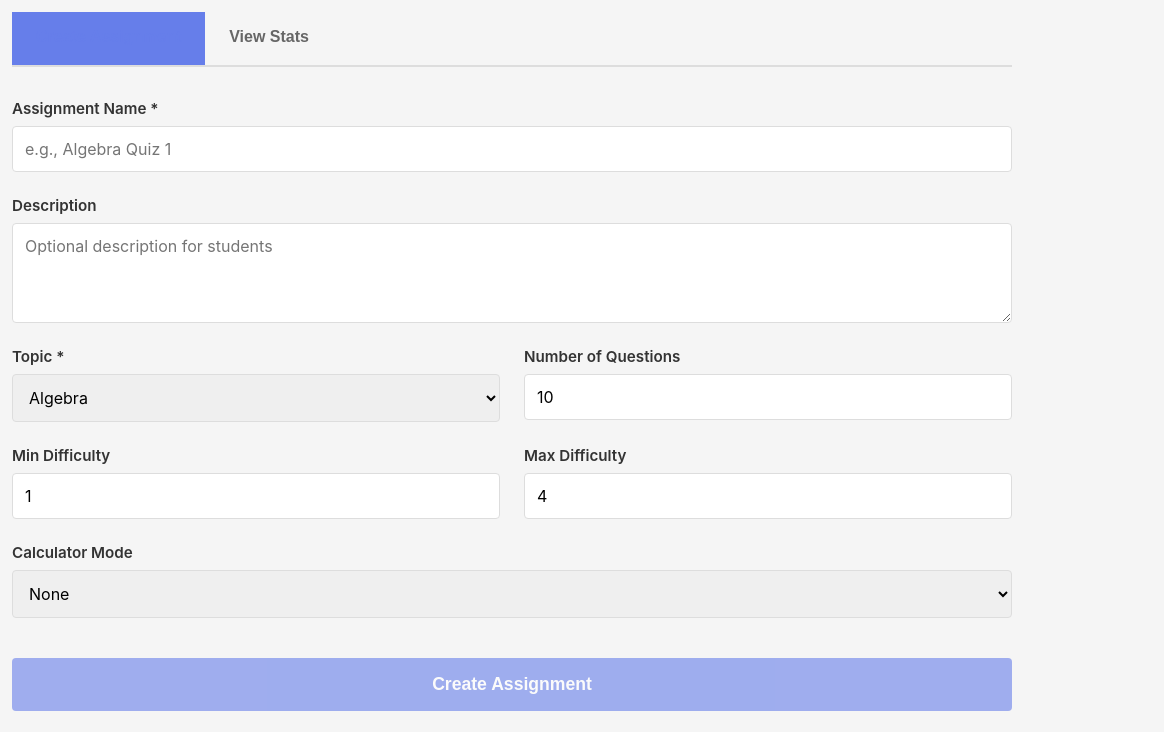
it: TeacherAssignments Component › Stats Tab › loads and displays assignment stats
# Switch to stats tab
Click the button "View Stats" at (269, 38), box [205, 12, 333, 65]
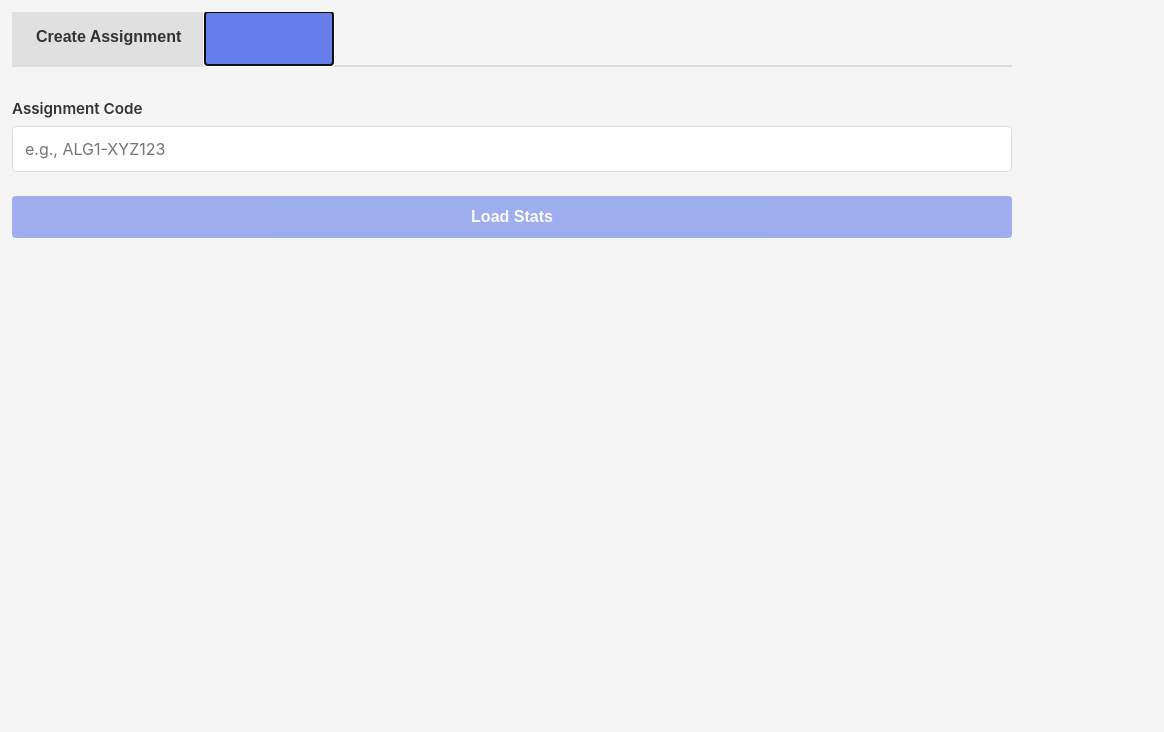
# Enter assignment code
Type "alg1-xyz123" into the field labelled "Assignment Code" at (512, 149), box [12, 126, 1012, 172]
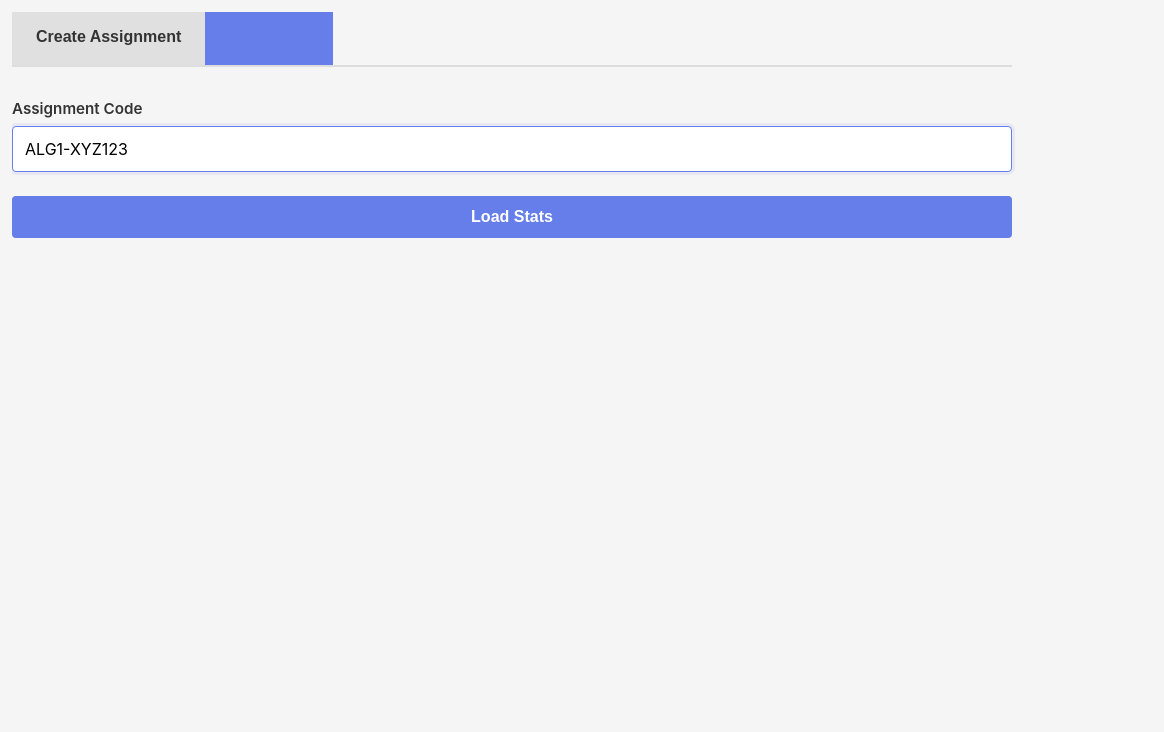
Click the button "Load Stats" at (512, 217), box [12, 196, 1012, 238]
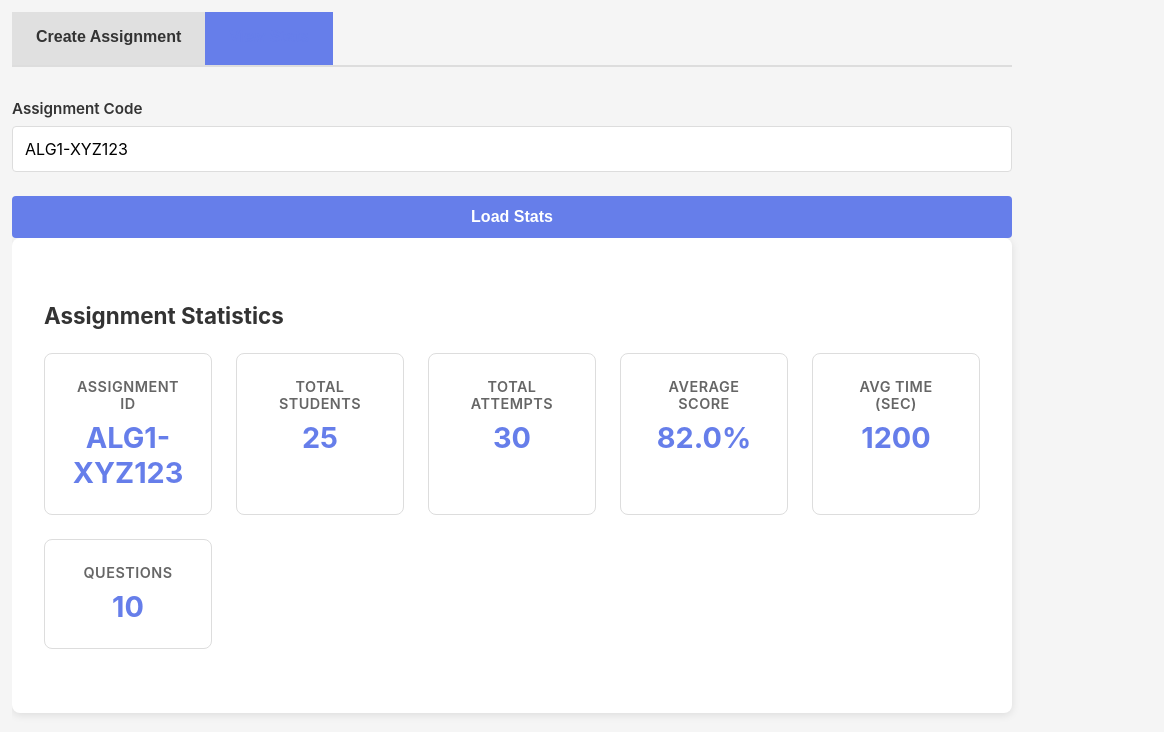
Now the heading "Assignment Statistics" is shown, box [44, 302, 284, 329]
Now the text "25" is shown, box [302, 420, 338, 455]
Now the text "82.0%" is shown, box [657, 420, 751, 455]
